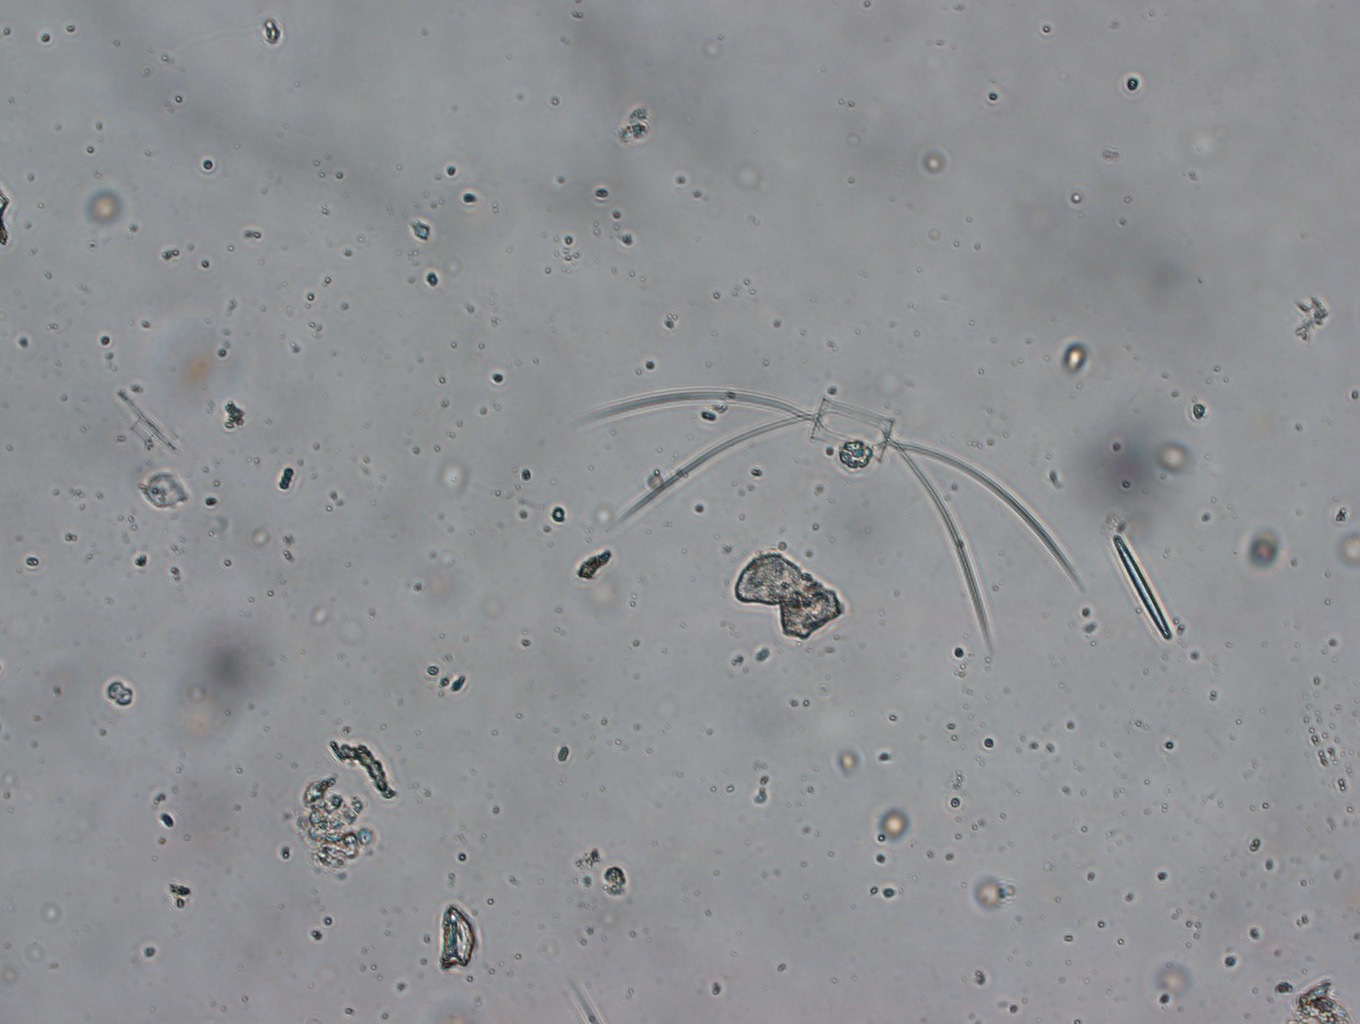chaetoceros: (577, 376, 1099, 671)
